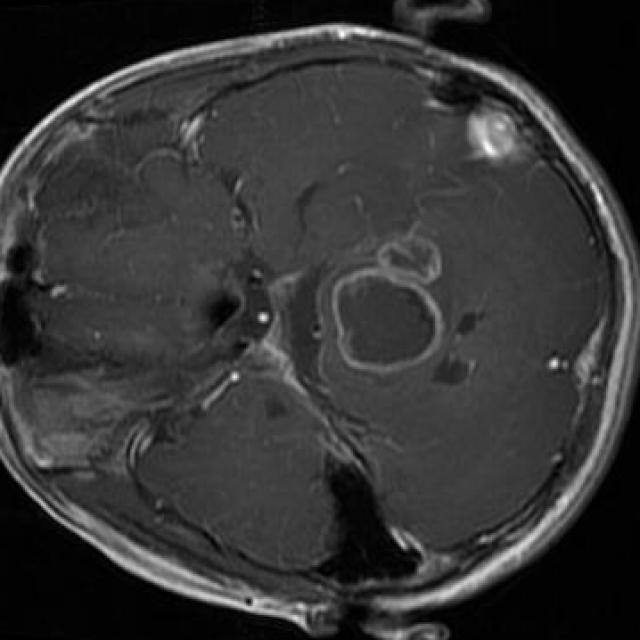glioma: (333, 237, 444, 374)
